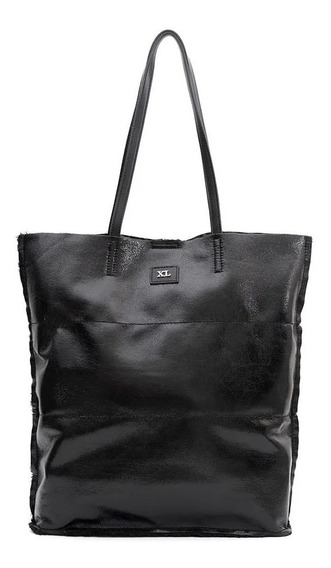cartera: (16, 29, 312, 541)
